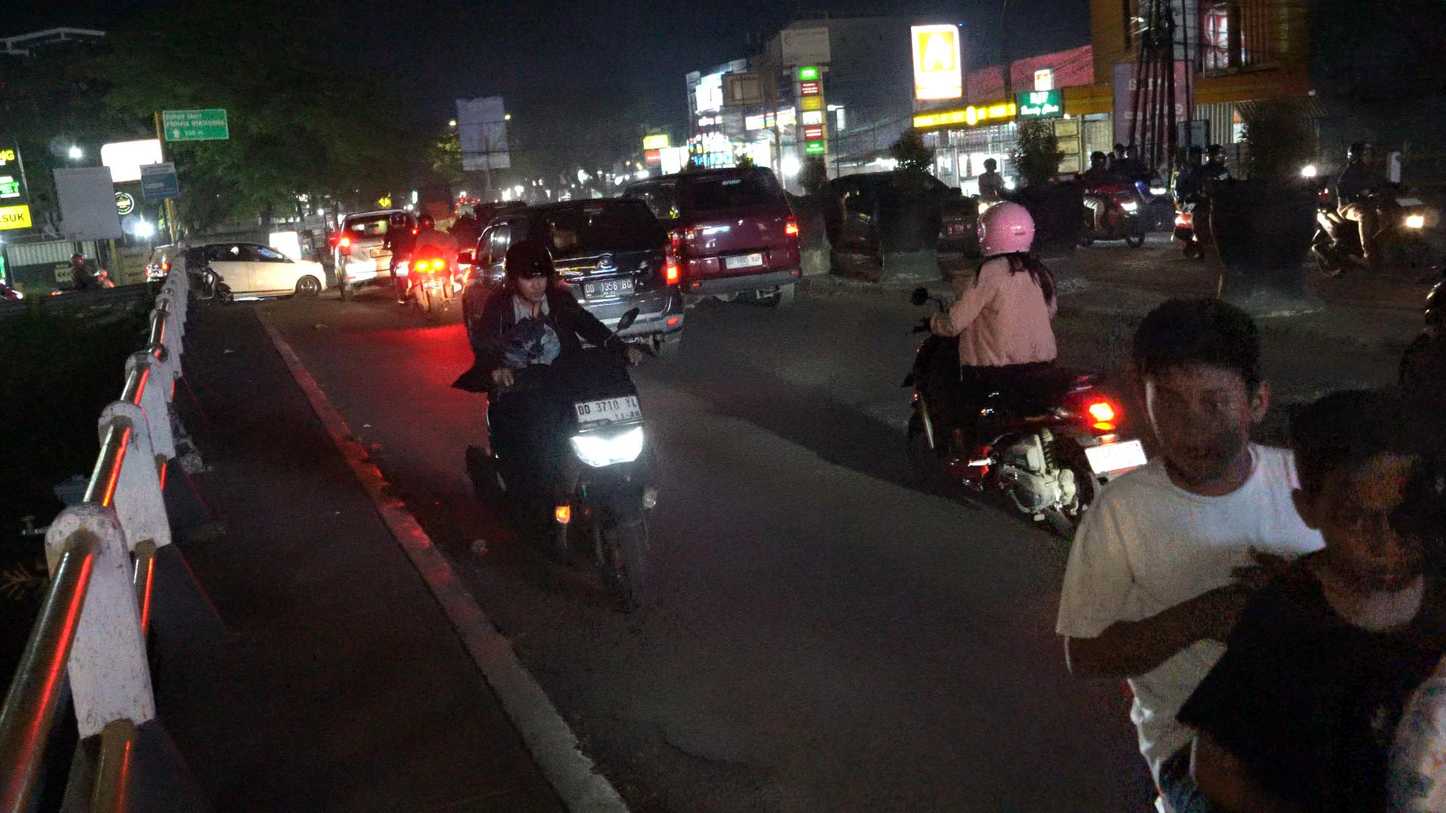number-plate: (572, 394, 643, 437)
